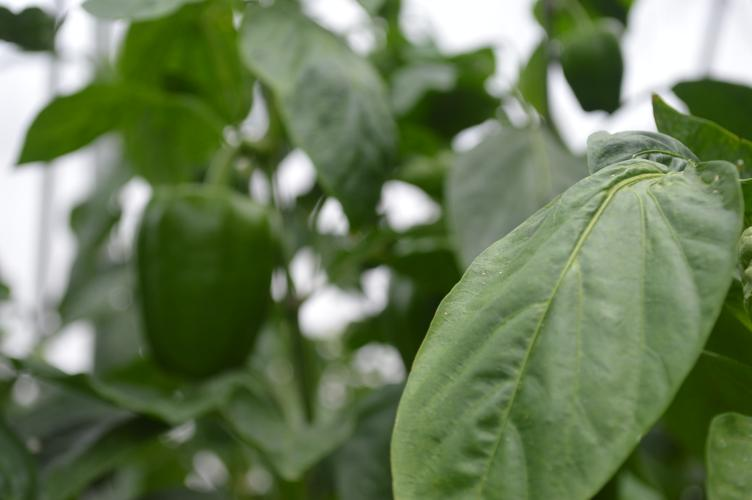BellPepper: (128, 187, 267, 373)
